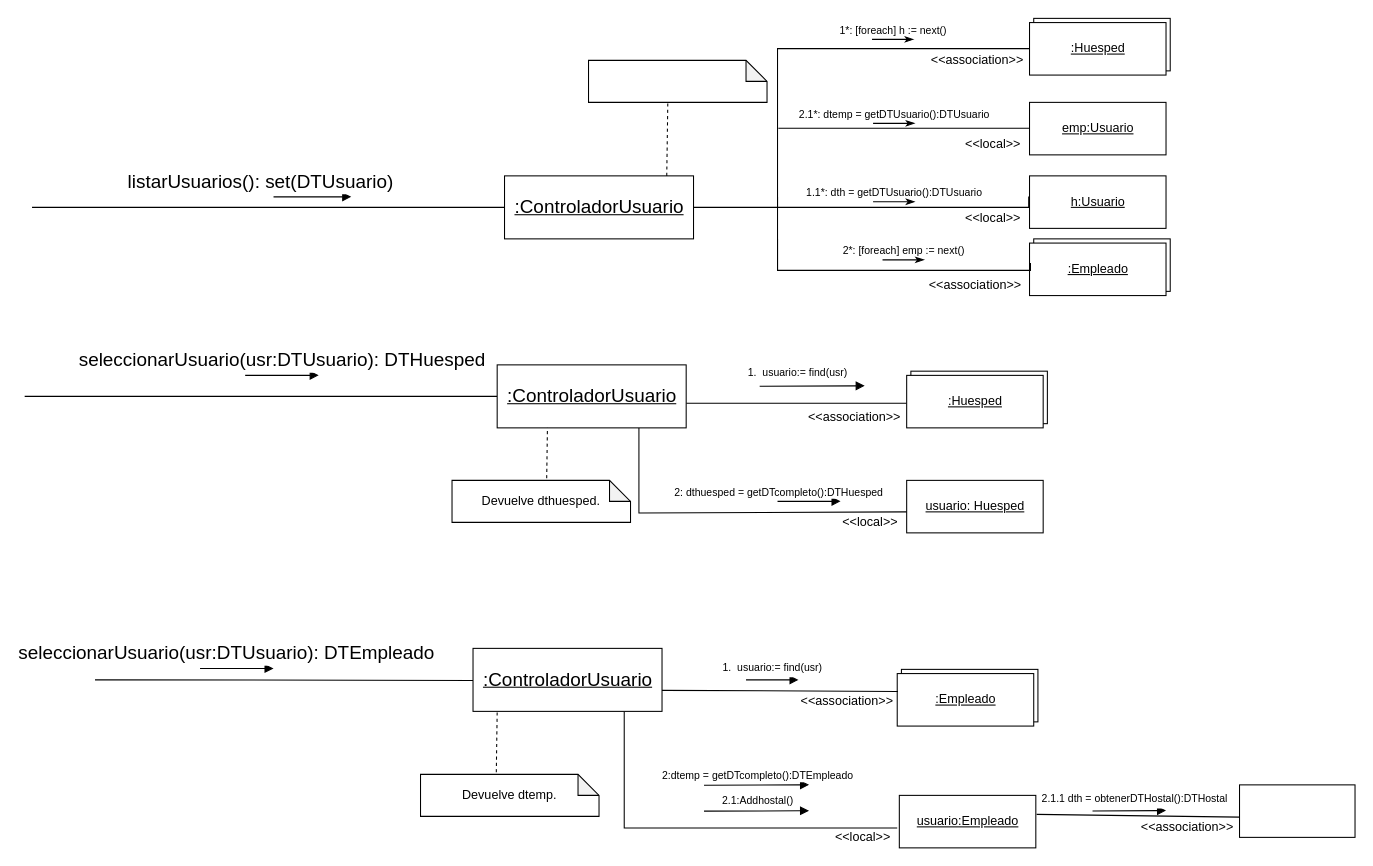
Image size: 1373x866. Some labels were removed from this diagram. Here are the shapes that lost their labels. From the top down, the centre of each, then its label:
point 677,80: Se agrega dth y dtemp al resultado.
point 1296,810: :Hostal
